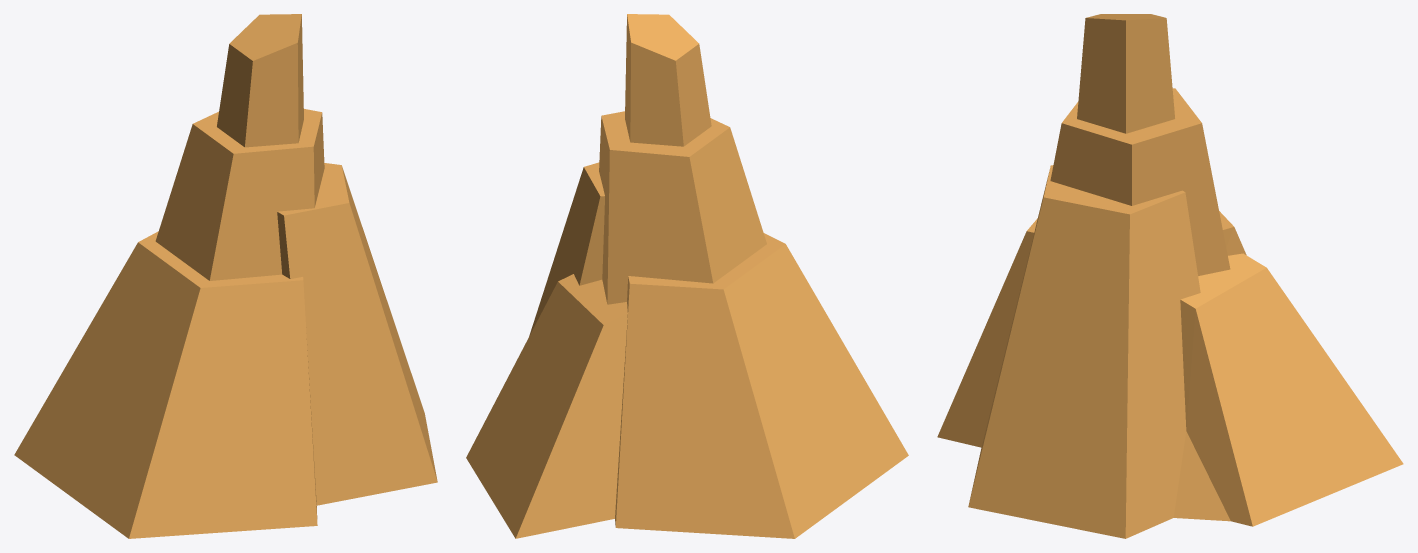
Rendered from Model_Desert_2x2A.fbx.
The picture shows the model from 3 angles, left to right: view 1: azimuth 30°, elevation 25°; view 2: azimuth 150°, elevation 25°; view 3: azimuth 270°, elevation 25°; orthographic projection. The views are drawn at different scales.
Parts seen in each view (by area): view 1: Model_Frost_2x2A; view 2: Model_Frost_2x2A; view 3: Model_Frost_2x2A.
Boxes of the visible parts, x1,y1,x2,y2 form: Model_Frost_2x2A: (14, 14, 437, 538); Model_Frost_2x2A: (466, 14, 908, 538); Model_Frost_2x2A: (937, 14, 1403, 538).
Size of the model in its own units: 374 by 436 by 405.
1 material, 1 textured.
